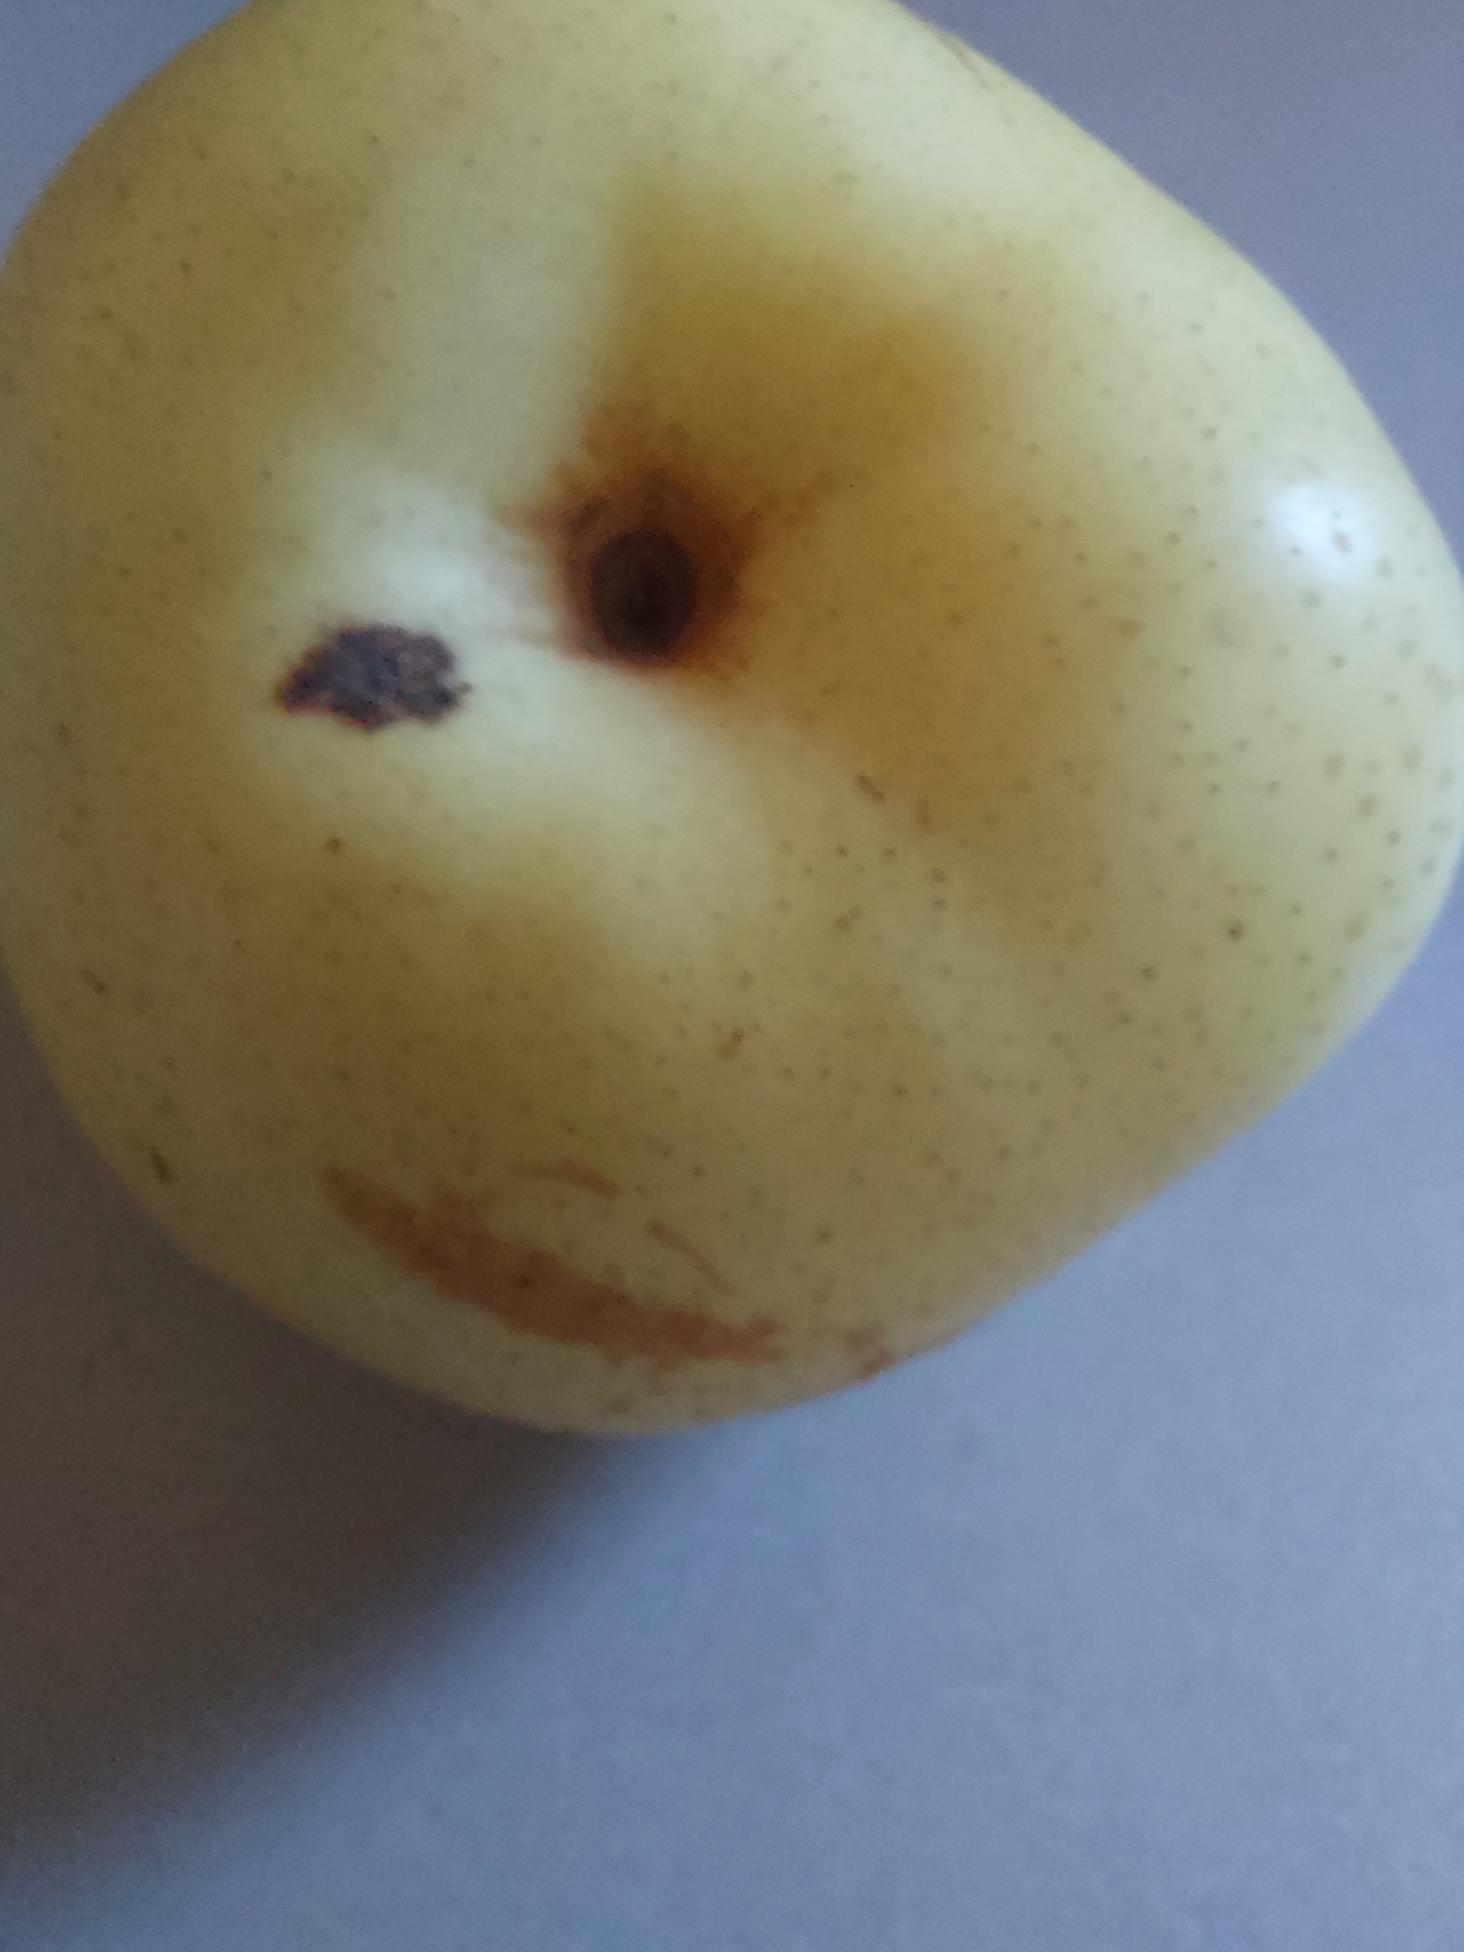Good Pear: (0, 0, 1464, 1459)
